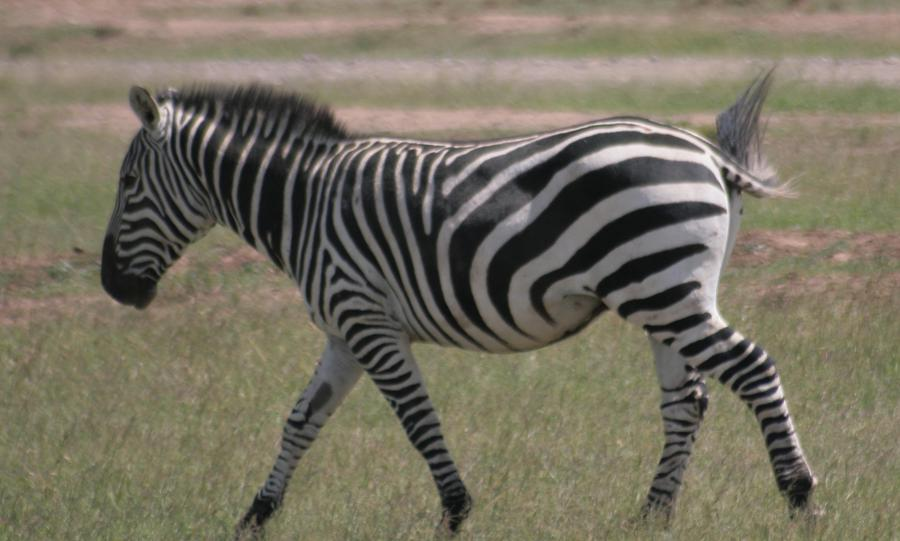zebra_plains: (274, 121, 714, 348)
